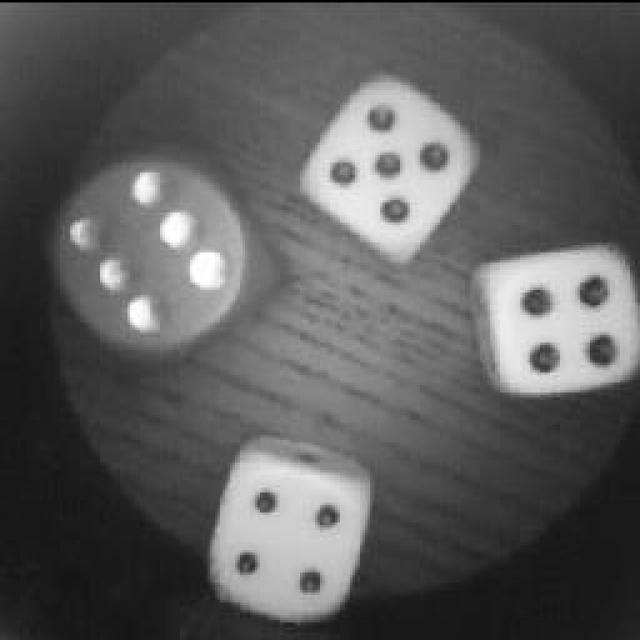dice_4: (202, 448, 368, 628), (472, 230, 640, 400)
dice_5: (302, 72, 478, 260)
dice_6: (32, 138, 282, 370)
